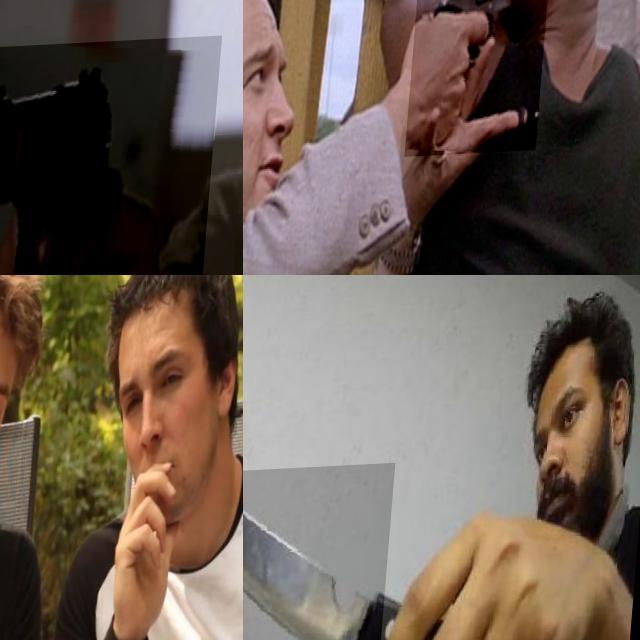-: (243, 466, 402, 640)
gun-knife-thesis - v11 Yolov5 augmented: (0, 39, 225, 275), (411, 0, 558, 160)
